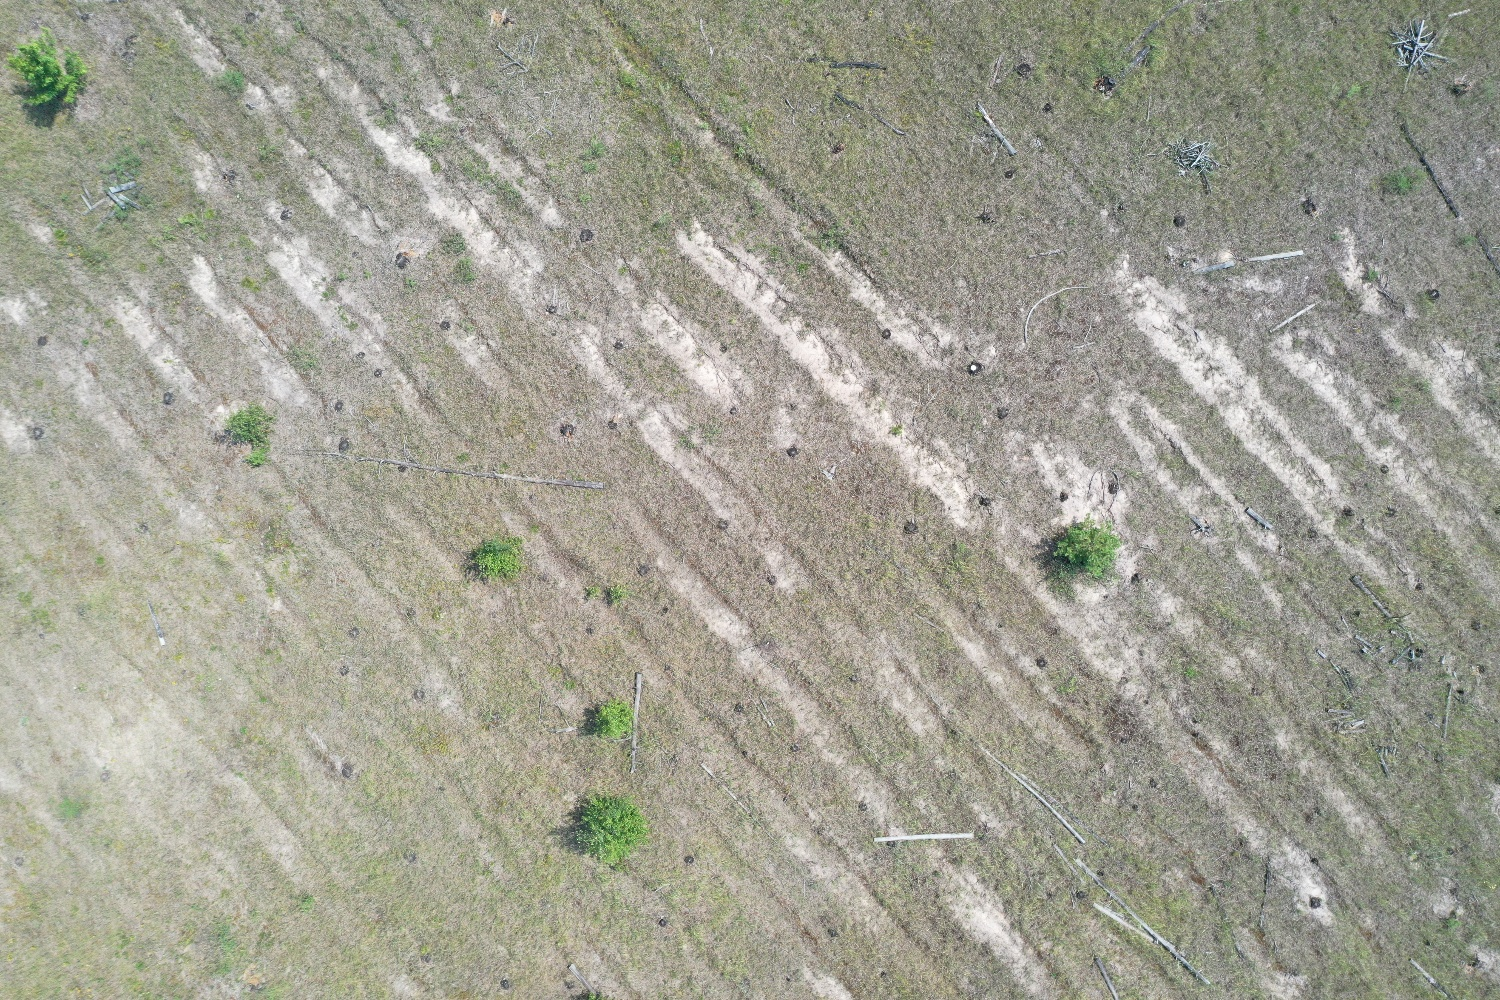branches: (1388, 19, 1448, 70), (1162, 140, 1230, 172)
